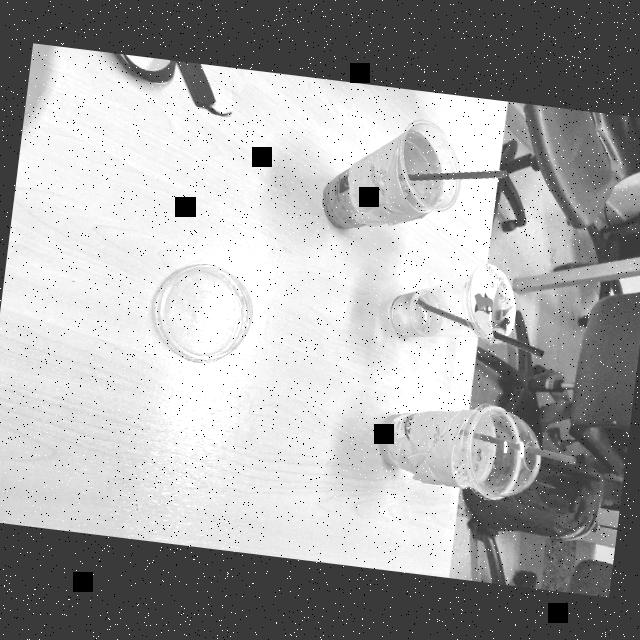plastic_cup: (306, 110, 474, 248), (372, 382, 529, 514), (379, 242, 518, 375)
plastic_cup_lid: (140, 246, 270, 370), (458, 393, 552, 506)
straw: (404, 295, 562, 363), (388, 151, 518, 203), (458, 425, 584, 474)
